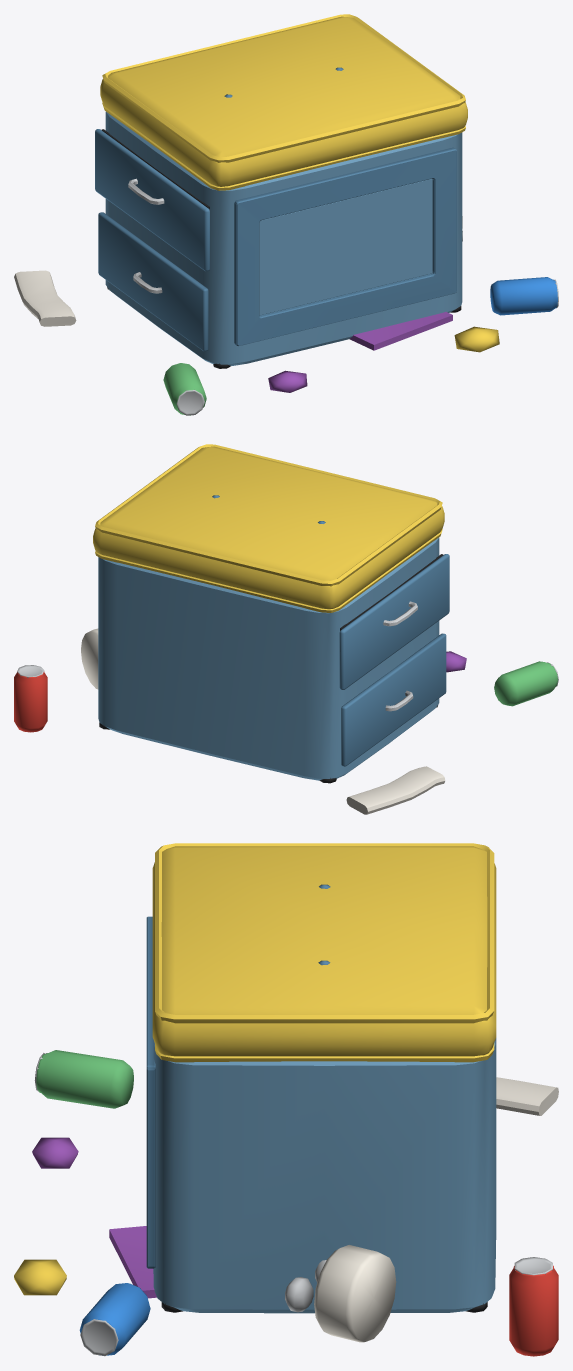
The model's file is snackNightstand.glb.
3 renders of one model, top to bottom at view 1: azimuth 30°, elevation 25°; view 2: azimuth 150°, elevation 25°; view 3: azimuth 270°, elevation 25°, orthographic. The views are drawn at different scales.
Parts seen in each view (by area): view 1: body, drawer; view 2: body, drawer; view 3: body.
Boxes of the visible parts, box(x1,y1,x2,y2) form: body: box(14, 14, 558, 415); drawer: box(95, 129, 209, 271); body: box(14, 444, 558, 814); drawer: box(339, 554, 449, 689); body: box(14, 843, 558, 1356).
Bounding box in the file's own units: 0.894 × 0.45 × 0.7289.
